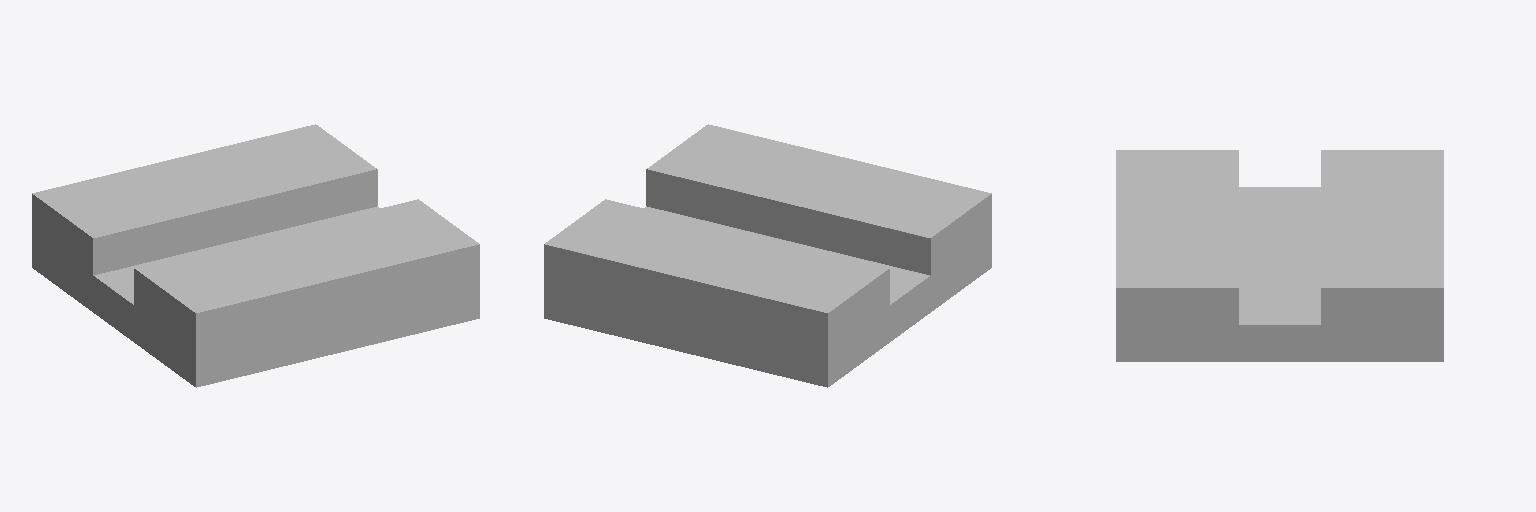
Rendered from river.obj.
The picture shows the model from 3 angles: view 1: azimuth 30°, elevation 25°; view 2: azimuth 150°, elevation 25°; view 3: azimuth 270°, elevation 25°; orthographic projection.
Parts seen in each view (by area): view 1: object 1; view 2: object 1; view 3: object 1.
Part boxes in pixels (x1,y1,x2,y2): object 1: (32, 124, 479, 387); object 1: (544, 124, 991, 387); object 1: (1116, 150, 1443, 361).
Bounding box in the file's own units: 0.8 × 0.2 × 0.8.